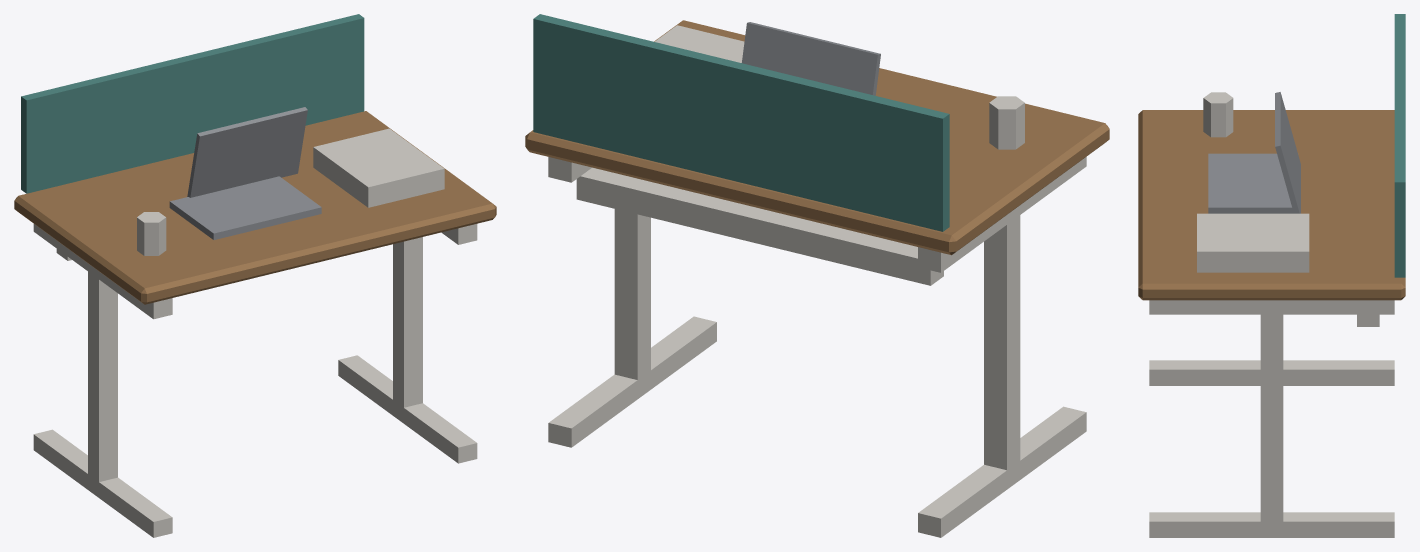
The model's file is office-desk-09.glb.
3 renders of one model, left to right at view 1: azimuth 30°, elevation 25°; view 2: azimuth 150°, elevation 25°; view 3: azimuth 270°, elevation 25°, orthographic. The views are drawn at different scales.
Parts seen in each view (by area): view 1: office_desk_09; view 2: office_desk_09; view 3: office_desk_09.
Part boxes in pixels (x1,y1,x2,y2): office_desk_09: [14, 14, 496, 537]; office_desk_09: [525, 14, 1109, 537]; office_desk_09: [1138, 14, 1405, 537].
Size of the model in its own units: 1.12 by 1.06 by 0.7139.
